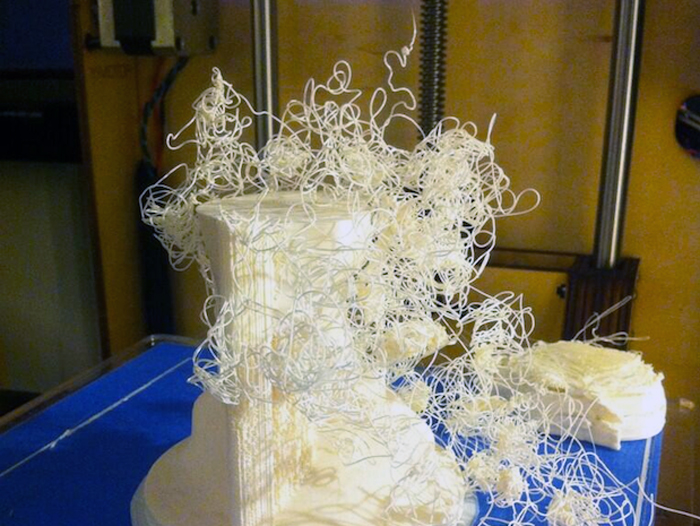Fail: (126, 57, 681, 526)
